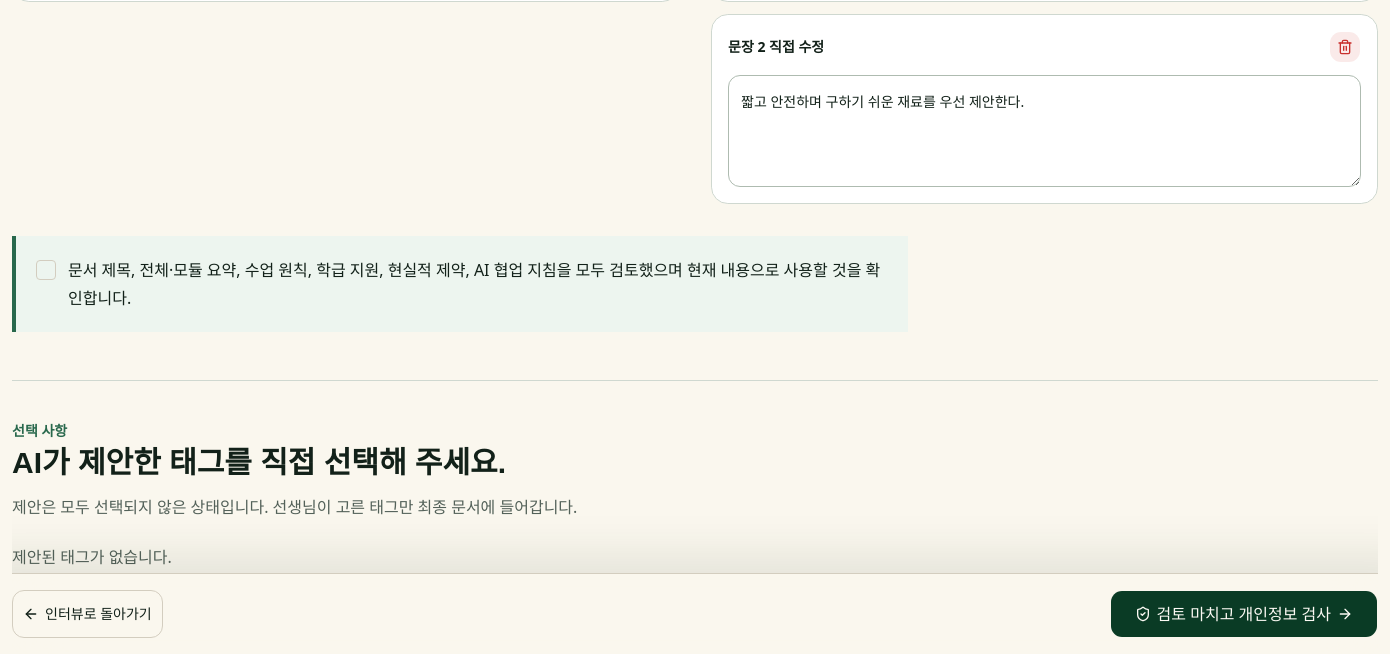
Scenario: ProfileReview final privacy check › tells the teacher how long to wait when the check hits a request limit
(page scrolled)
Click the checkbox named "문서 제목, 전체·모듈 요약". click: (46, 270)
box: [36,260,56,280]
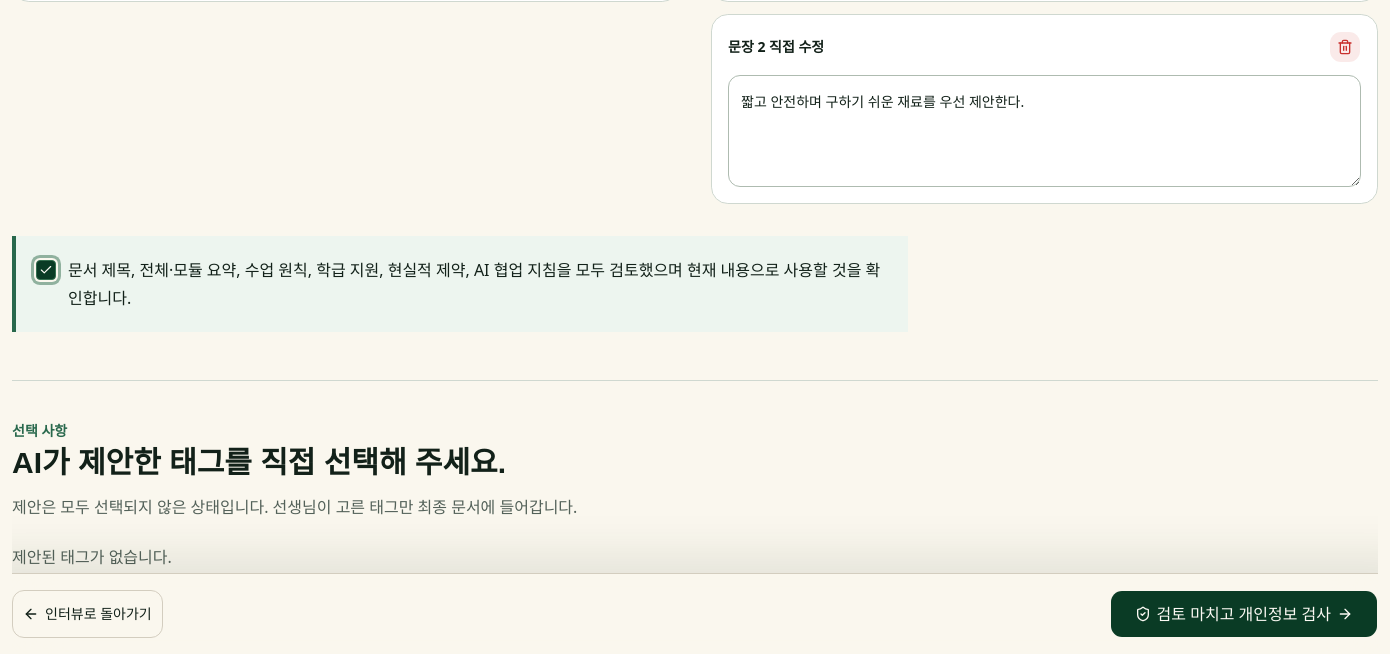
Click the button "검토 마치고 개인정보 검사". click: (1244, 614)
box: [1110,590,1378,638]
(page scrolled)
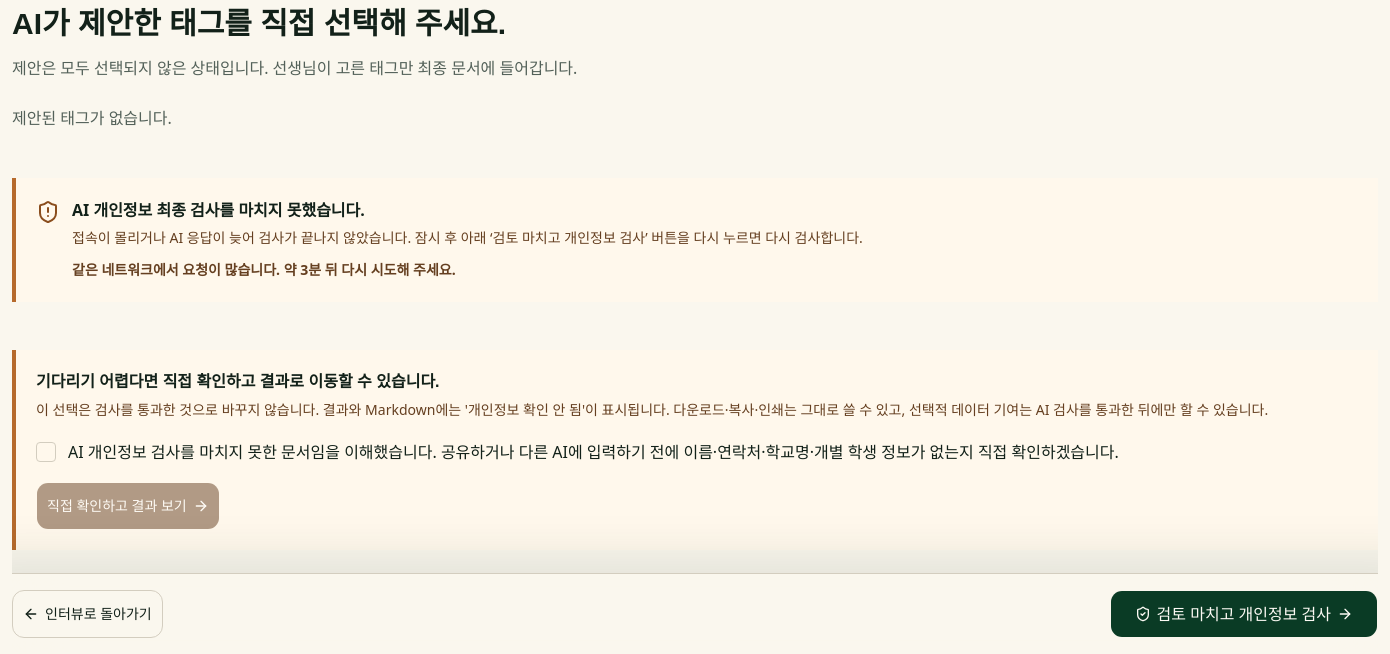
Now the text "같은 네트워크에서 요청이 많습니다. 약 3분 뒤 다시 시도해 주세요." is shown, box [72,260,456,279]
